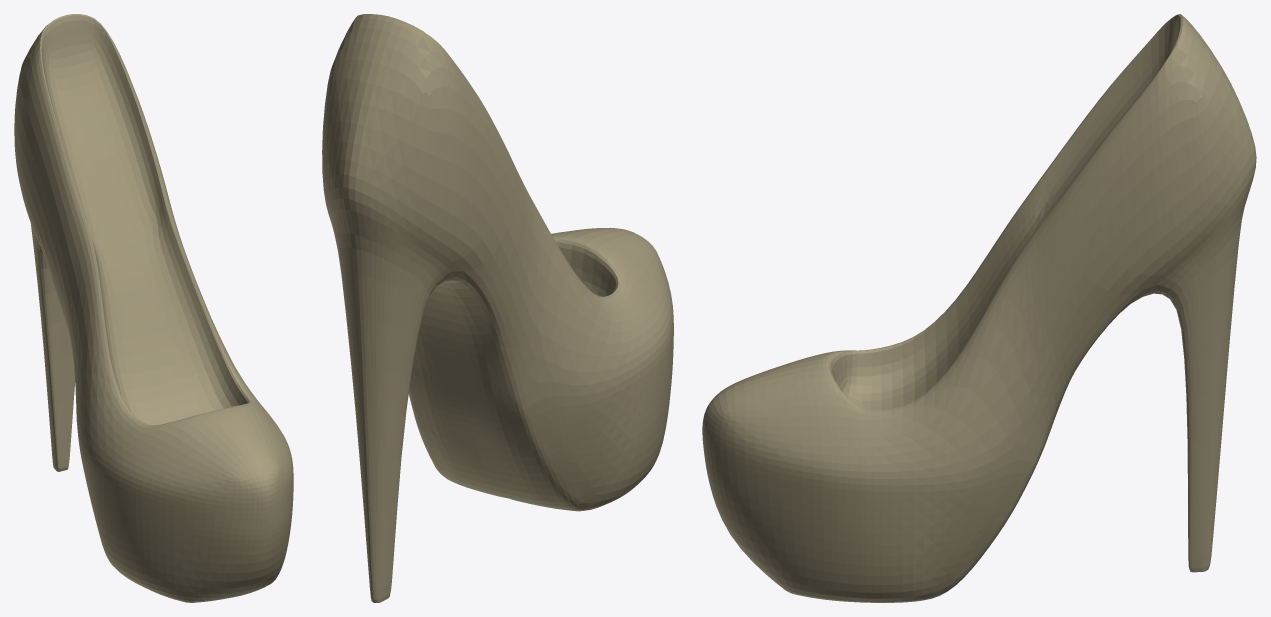
The model's file is PRF_Heel.fbx.
The picture shows the model from 3 angles, left to right: view 1: azimuth 30°, elevation 25°; view 2: azimuth 150°, elevation 25°; view 3: azimuth 270°, elevation 25°; orthographic projection. The views are drawn at different scales.
Parts seen in each view (by area): view 1: Heel_v1; view 2: Heel_v1; view 3: Heel_v1.
Part boxes in pixels (x1,y1,x2,y2): Heel_v1: (14,14,293,602); Heel_v1: (322,14,673,602); Heel_v1: (702,14,1256,602).
Size of the model in its own units: 142 by 372 by 340.
